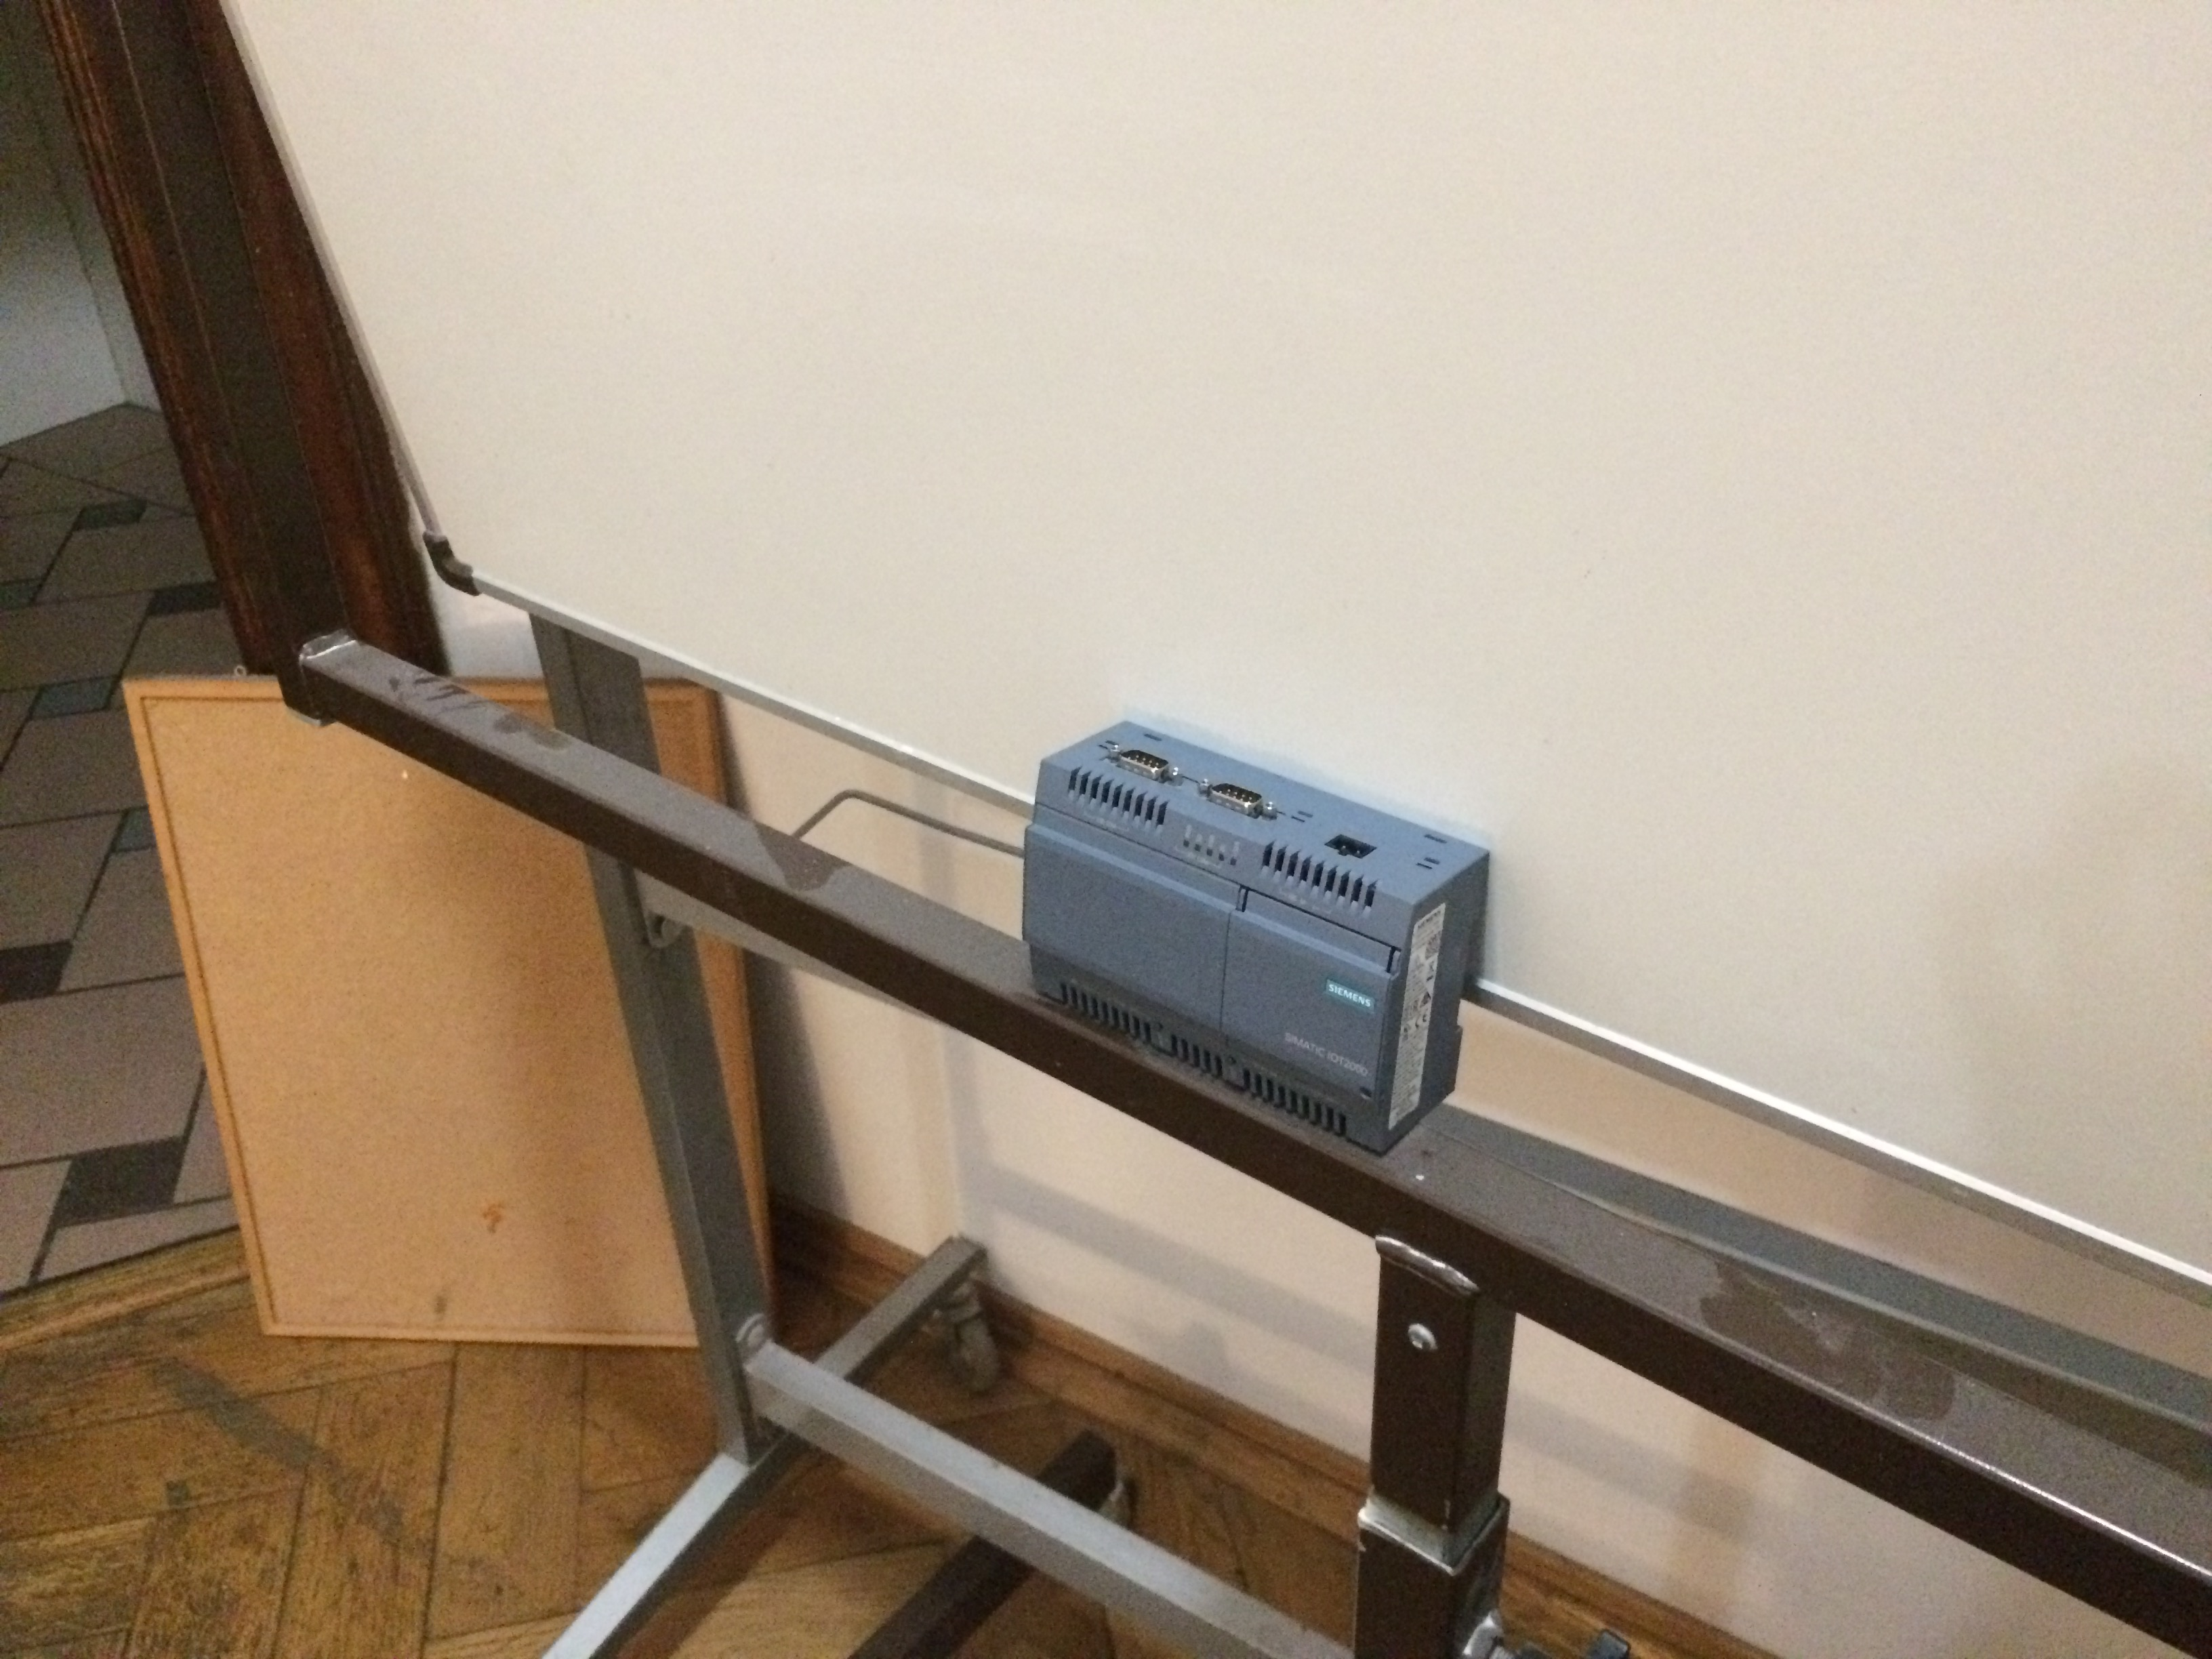iot2000: (1017, 720, 1491, 1162)
